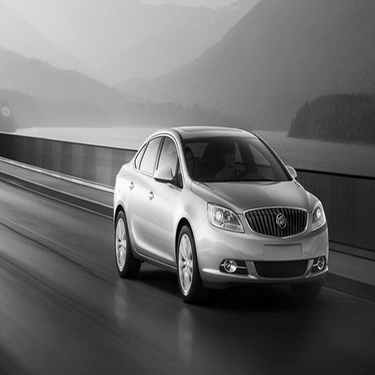car: (100, 116, 336, 315)
